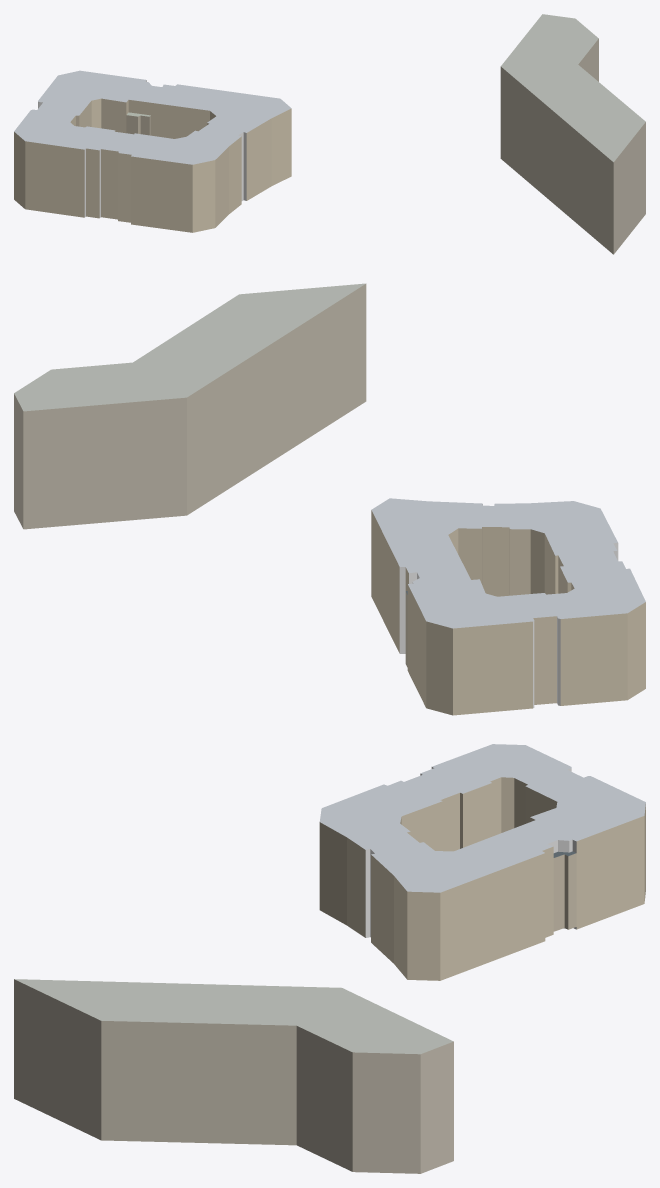
3 views of the same model, one above another, from view 1: azimuth 30°, elevation 25°; view 2: azimuth 150°, elevation 25°; view 3: azimuth 270°, elevation 25° (orthographic). The views are drawn at different scales.
Parts seen in each view (by area): view 1: tuile; view 2: tuile; view 3: tuile.
Part boxes in pixels (<box>): tuile: <box>14,14,645,254</box>; tuile: <box>14,283,645,715</box>; tuile: <box>14,744,645,1173</box>.
Bounding box in the file's own units: 163 × 27.56 × 132.
